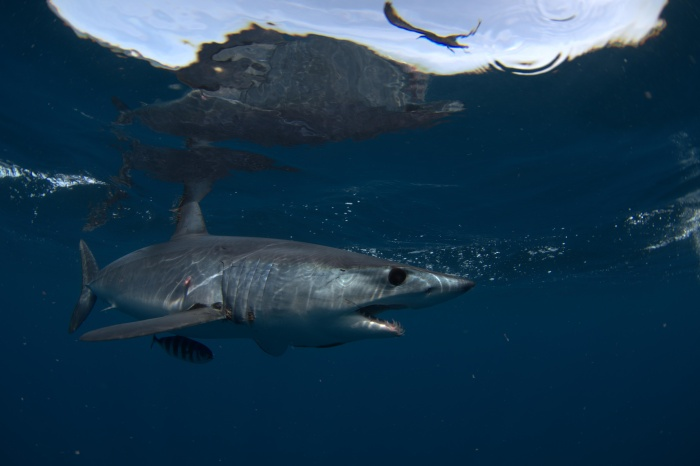Mako: (47, 200, 480, 382)
